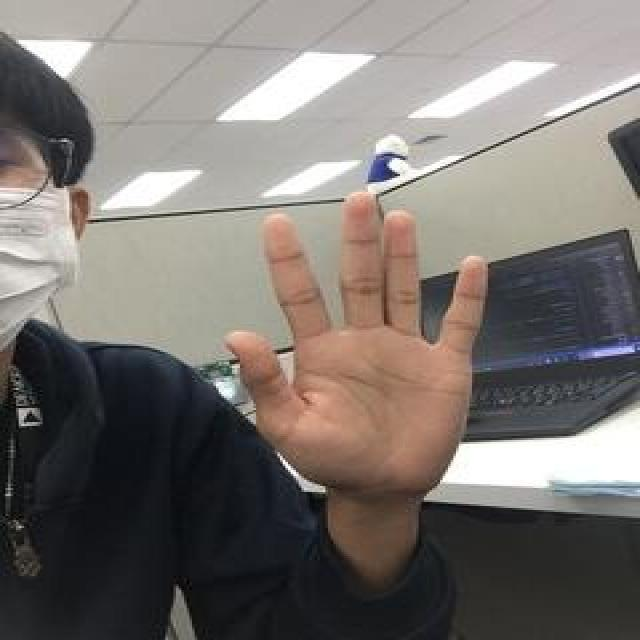hand: (224, 194, 491, 492)
